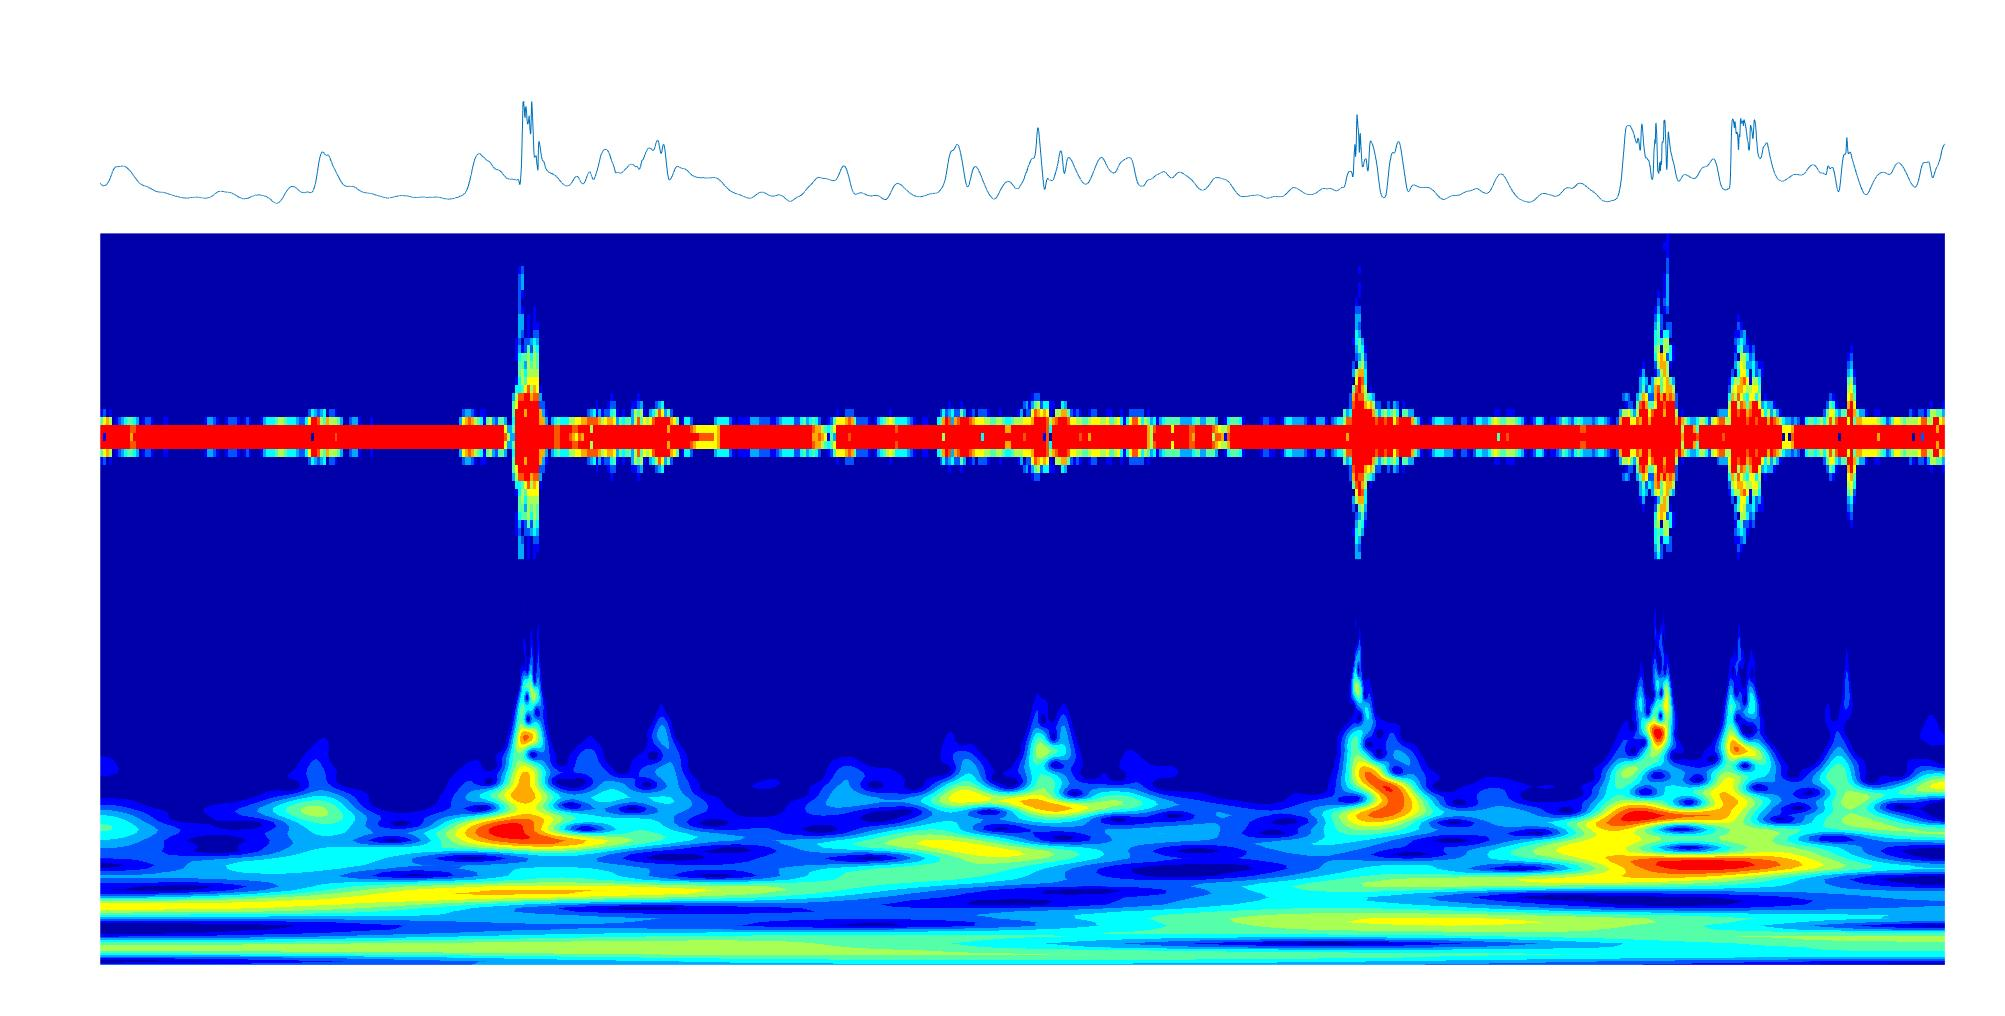TURBULENT: (1629, 233, 1680, 965), (1729, 233, 1768, 964), (1344, 233, 1377, 965), (512, 235, 544, 964)
